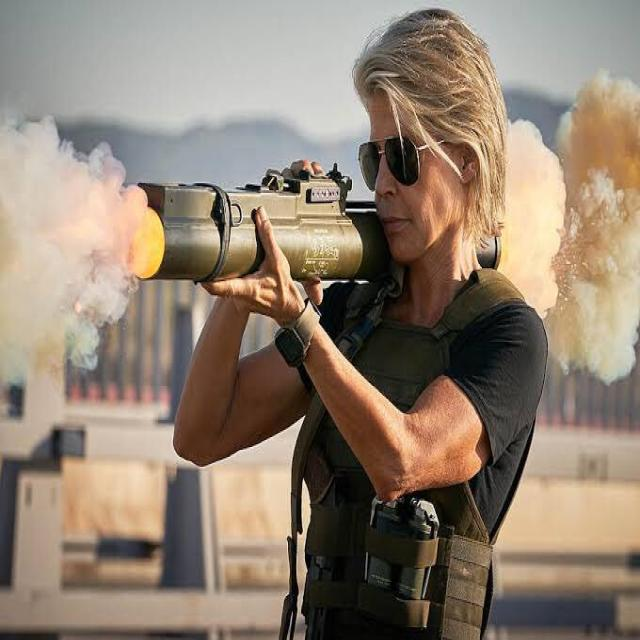bazooka: (120, 172, 504, 296)
